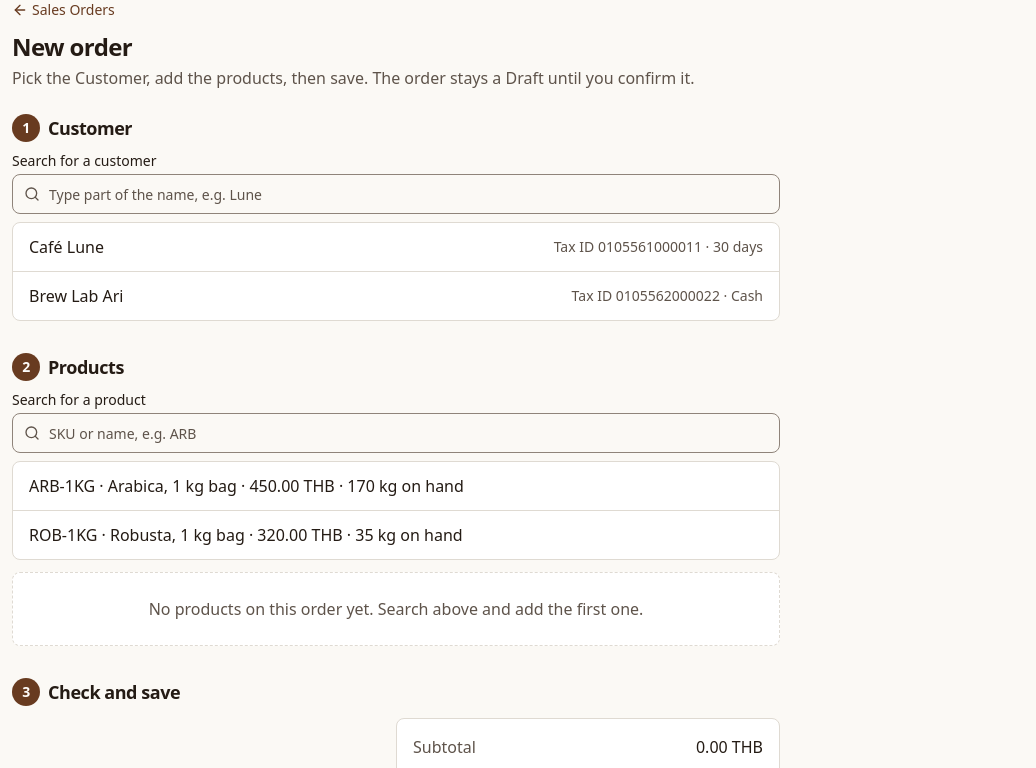
Test: New order › Nok picks a Customer, adds 20 kg of ARB-1KG, sees the live totals and saves a Draft
This screenshot has width=1036, height=768.
// Customer: the search asks for active Customers only
Click the button "Café Lune Tax ID 0105561000011 · 30 days": (66, 247) [13,223,779,271]
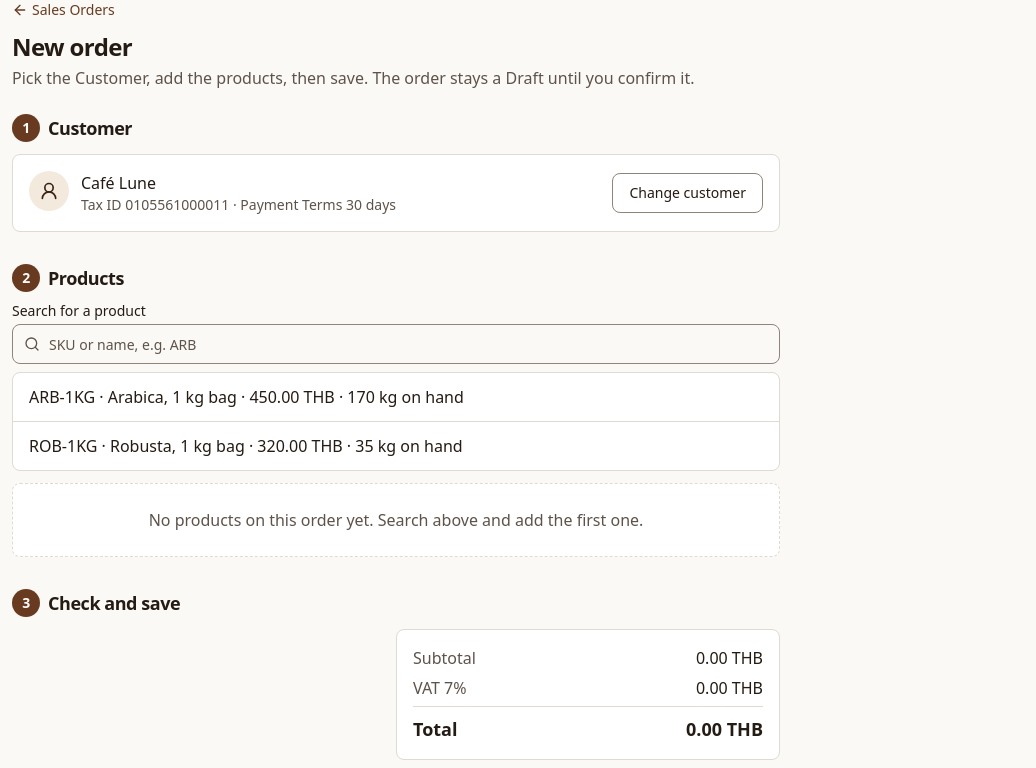
Expected: the text with test id "chosen-customer" reads "Café Lune", [81,172,156,194]
// Product: shown with price and On Hand
Click the button "ARB-1KG · Arabica, 1 kg bag · 450.00 THB · 170 kg on hand": (396, 397) [13,373,779,421]
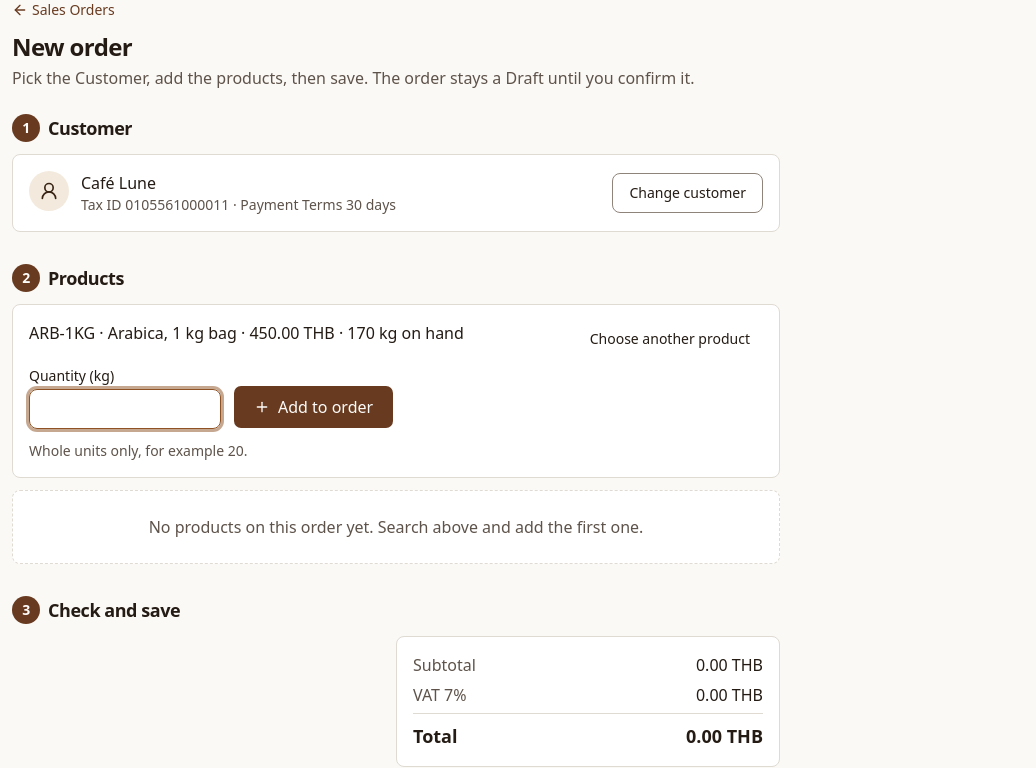
In the field labelled "Quantity (kg)": (125, 409) [29,389,221,429], type "20"
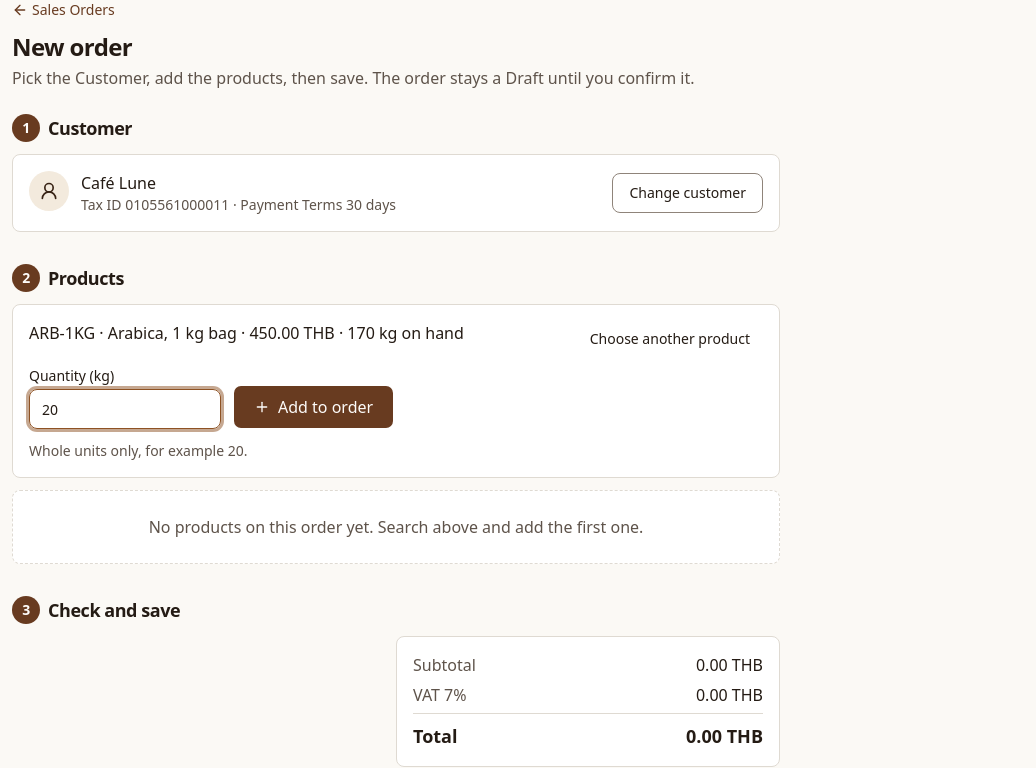
Click the button "Add to order": (314, 407) [233,385,394,429]
(page scrolled)
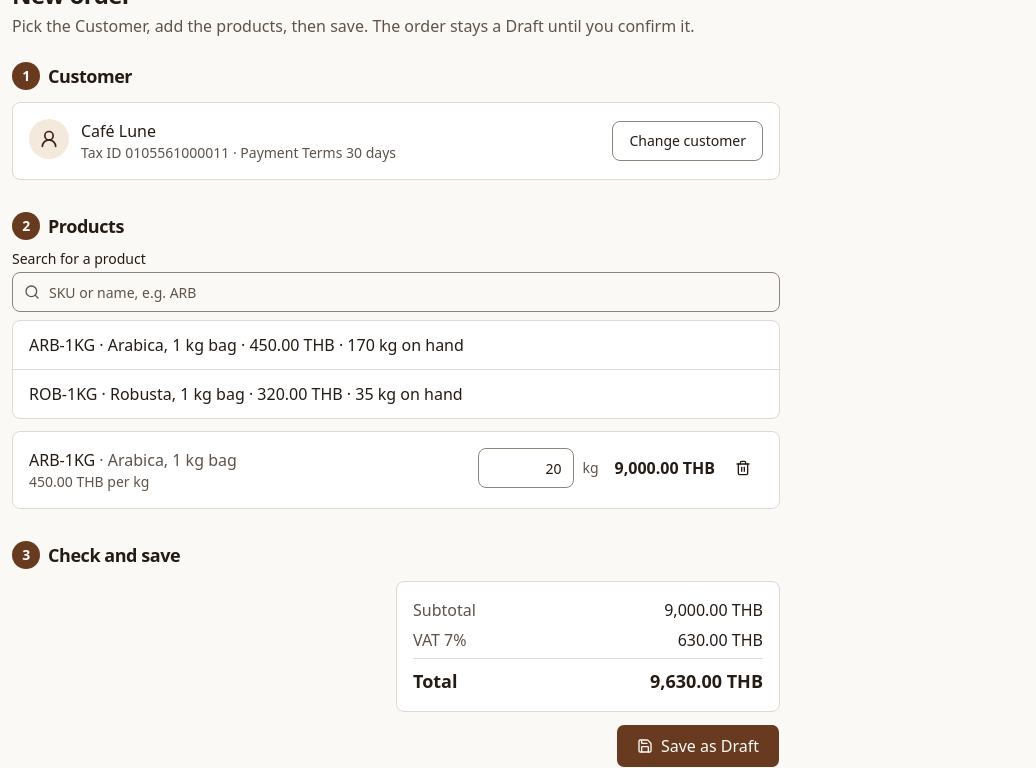
Result: the text "9,000.00 THB" in the row of "per" is shown at [614,457,715,479]
Result: the text with test id "subtotal" reads "9,000.00 THB" at [664,599,763,621]
Result: the text with test id "vat" reads "630.00 THB" at [678,629,763,651]
// Save as Draft sends the Customer and the lines, never a price
Click the button "Save as Draft": (698, 746) [616,724,780,767]
(page scrolled)
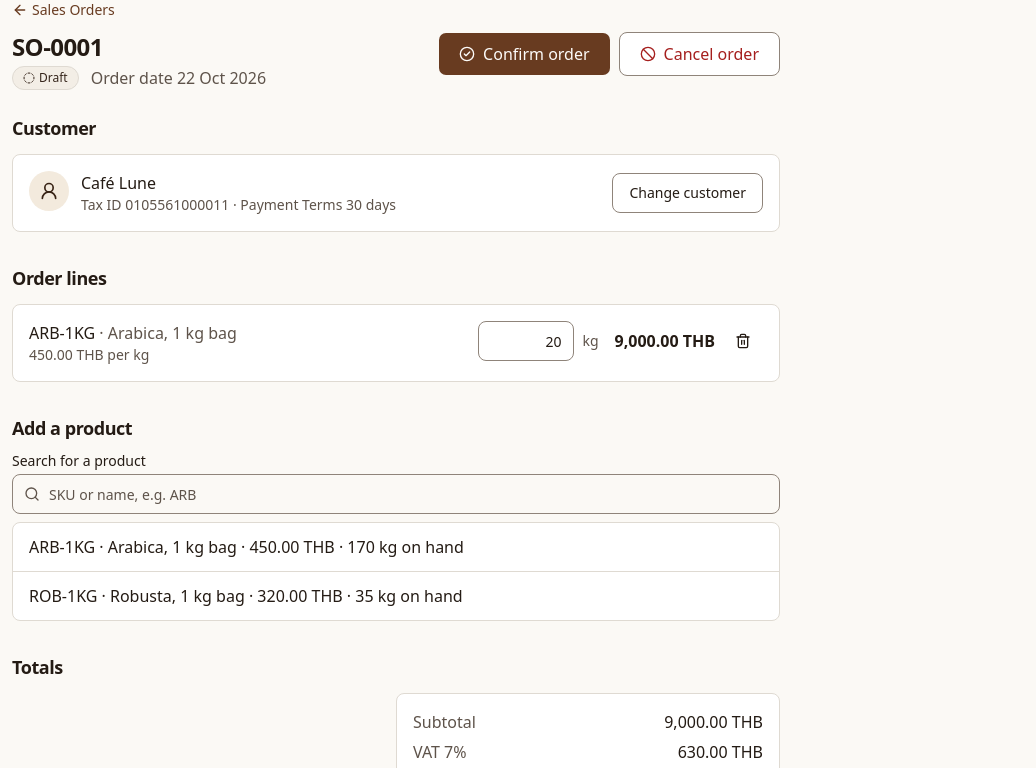
Result: the heading "SO-0001" is shown at [12,30,103,63]
